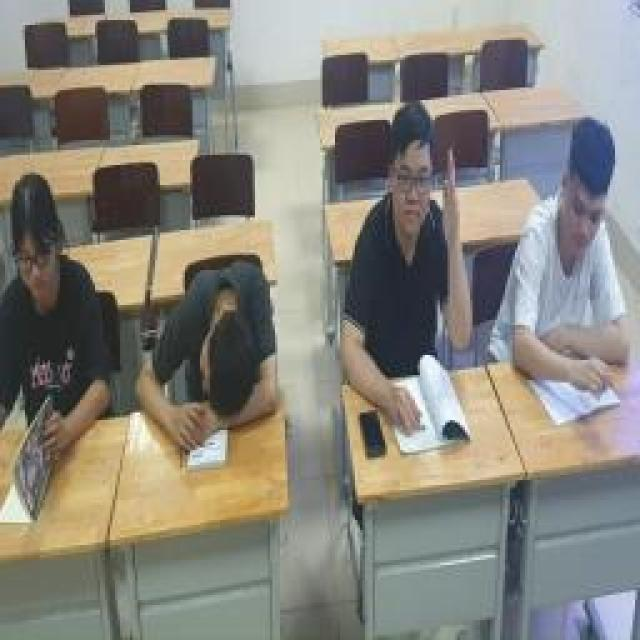sleep: (142, 253, 278, 435)
study: (343, 100, 475, 405), (505, 118, 635, 390), (0, 175, 105, 447)
